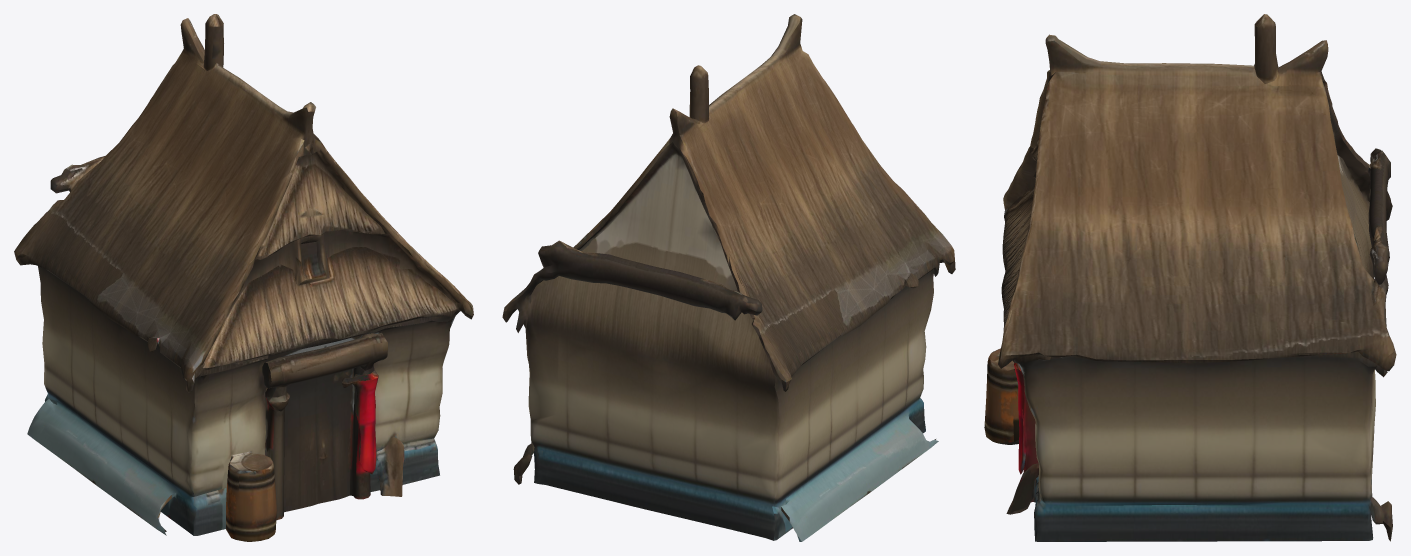
File: palmares_guerra_zumbi.glb
3 renders of one model, left to right at view 1: azimuth 30°, elevation 25°; view 2: azimuth 150°, elevation 25°; view 3: azimuth 270°, elevation 25°, orthographic. The views are drawn at different scales.
Visible parts, largest first — view 1: geometry_0; view 2: geometry_0; view 3: geometry_0.
Boxes of the visible parts, left/top/right/bottom form: geometry_0: left=14, top=14, right=473, bottom=541; geometry_0: left=502, top=14, right=955, bottom=541; geometry_0: left=984, top=14, right=1396, bottom=541.
Bounding box in the file's own units: 3.06 × 4.2 × 3.4.
1 material, 1 textured.
